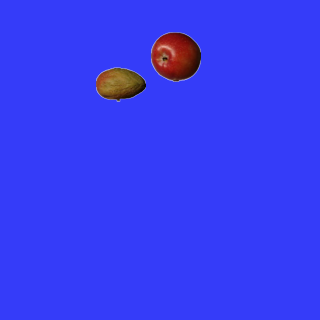Apple Braeburn: (150, 31, 200, 81)
Papaya: (95, 59, 145, 109)
